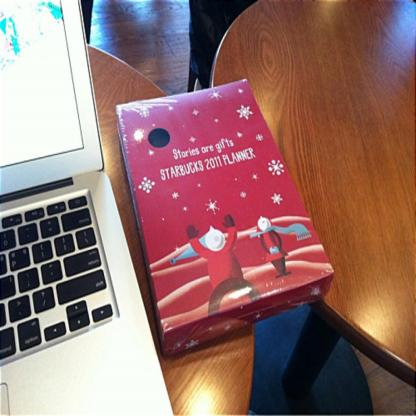board: (2, 3, 173, 415)
